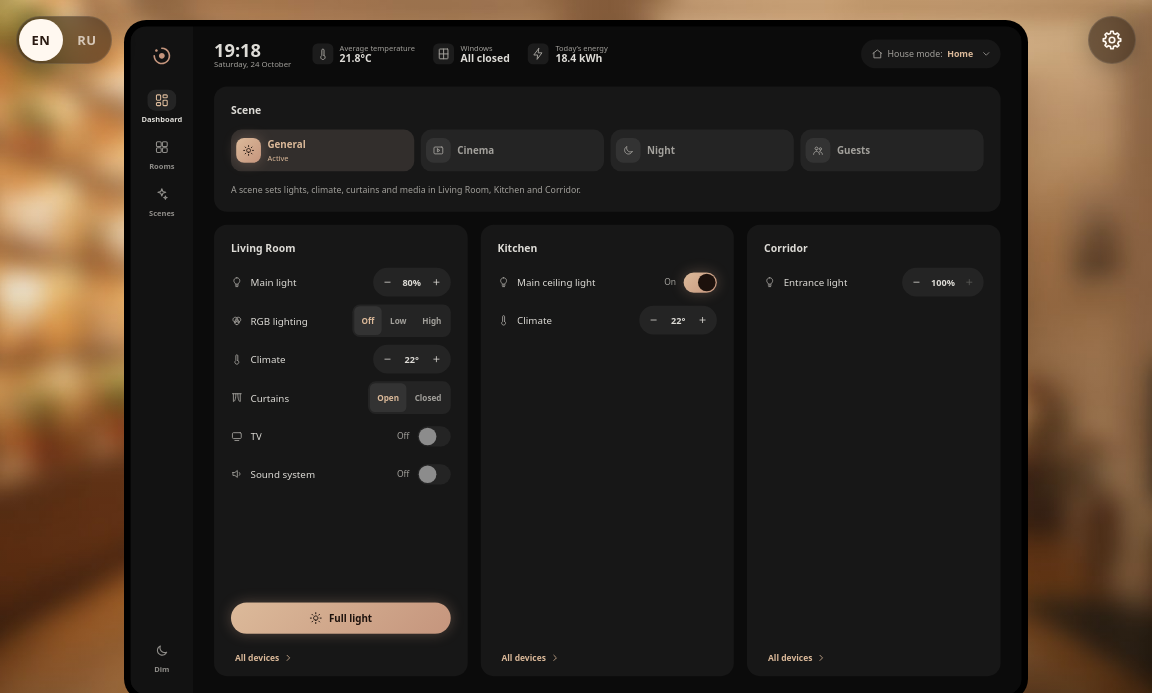
Scenario: главная страница › экран сна: время, дата и температура, без режима, сцены и сигнализации
Click the button named "Settings & demo content" at (1112, 40), box [1088,16,1136,64]
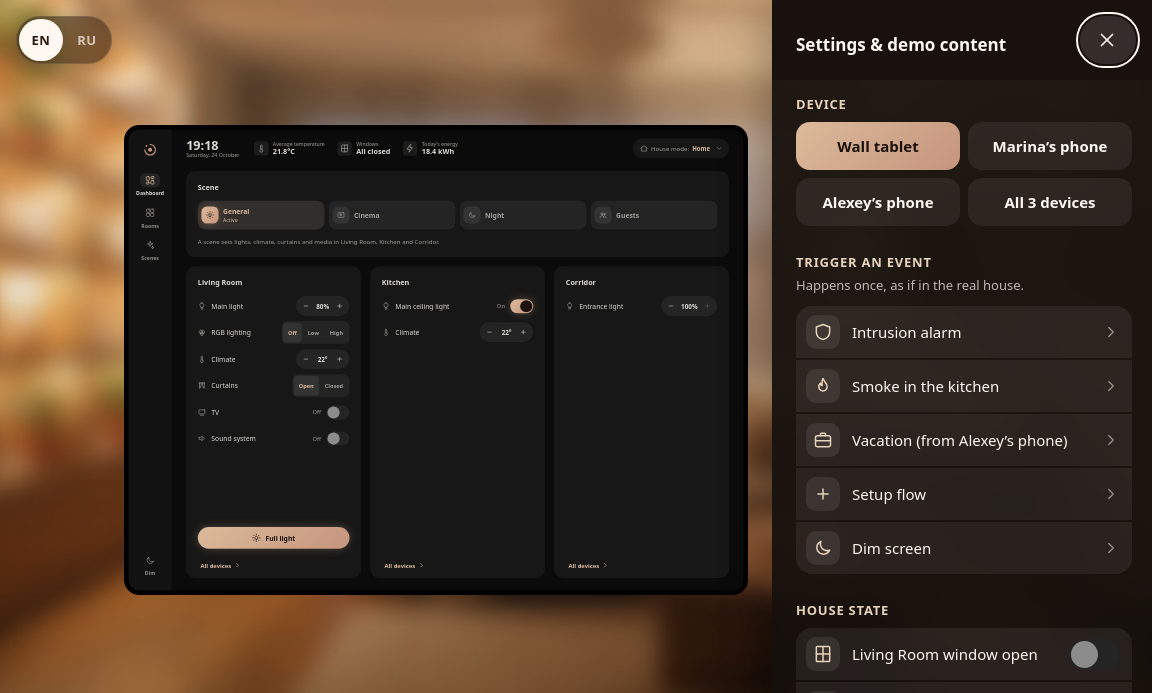
Click the button "Dim screen" at (823, 548), box [796,522,1132,574]
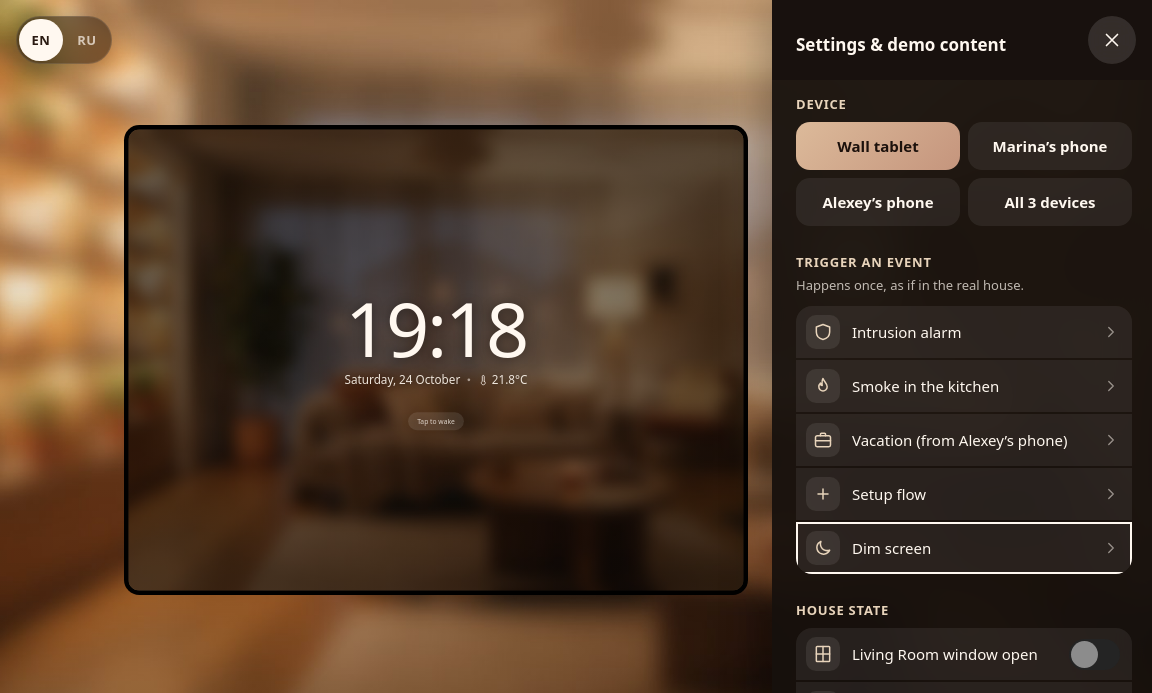
Now the button with aria-label "Wake the display" reads "19:18 Saturday, 24 October 21.8°C Tap to wake", box [128,130,744,590]
